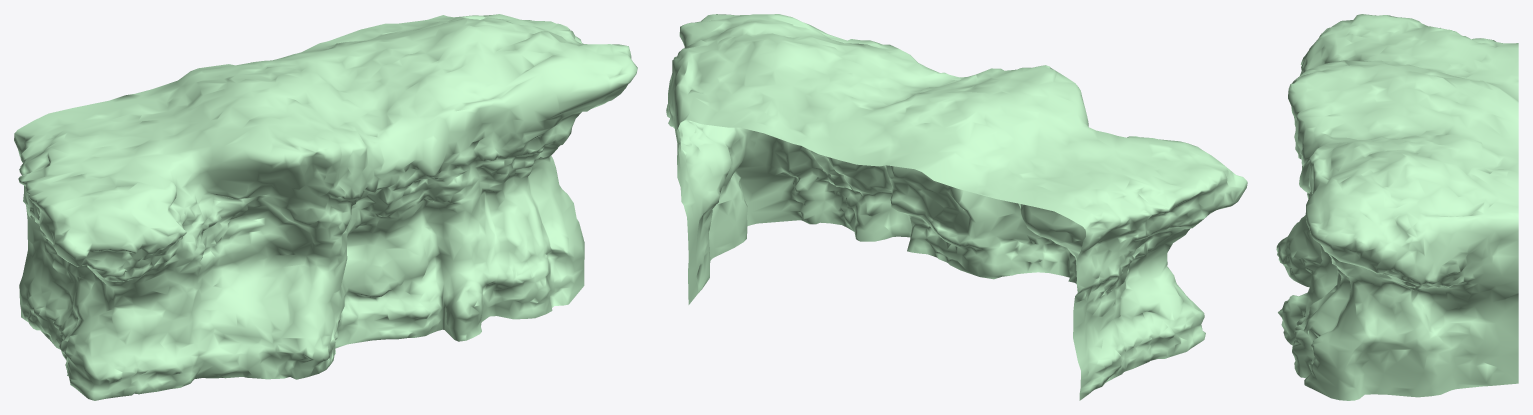
The model's file is lava_wall_01.FBX.
3 renders of one model, left to right at view 1: azimuth 30°, elevation 25°; view 2: azimuth 150°, elevation 25°; view 3: azimuth 270°, elevation 25°, orthographic. The views are drawn at different scales.
Visible parts, largest first — view 1: lava_wall_01_LOD0; view 2: lava_wall_01_LOD0; view 3: lava_wall_01_LOD0.
Part boxes in pixels (<box>): lava_wall_01_LOD0: <box>14,14,637,400</box>; lava_wall_01_LOD0: <box>666,14,1247,400</box>; lava_wall_01_LOD0: <box>1276,14,1518,400</box>.
Size of what is drawn, in the model's own units: 662 by 263 by 273.
